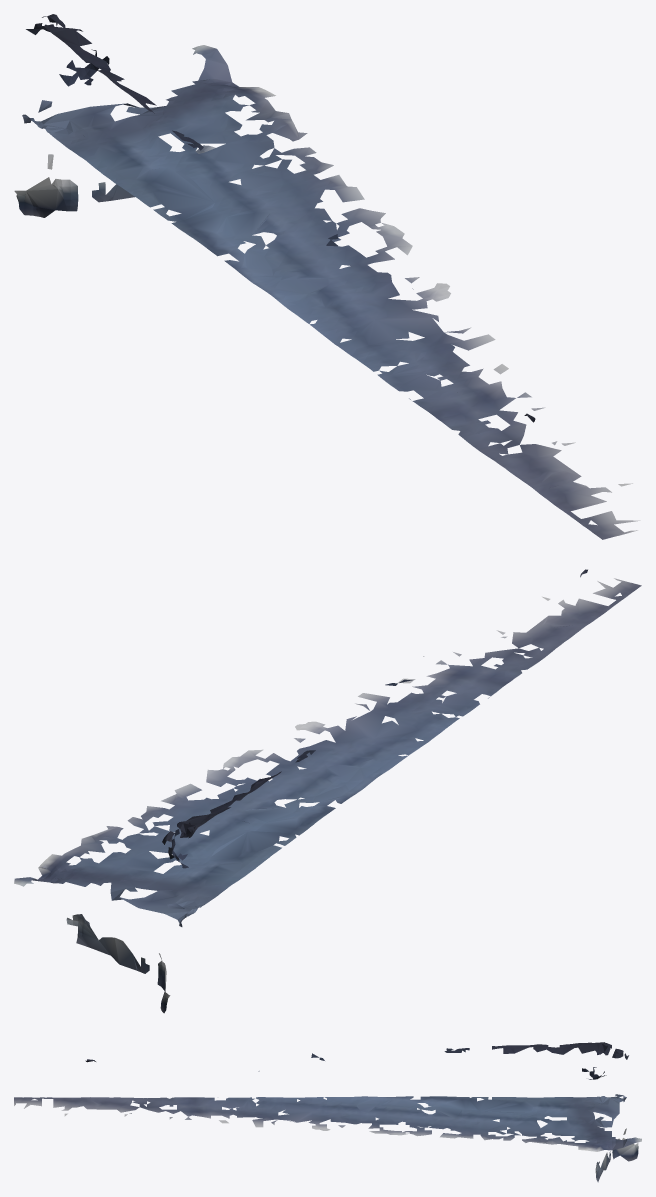
The model's file is coarse.glb.
3 views of the same model, one above another, from view 1: azimuth 30°, elevation 25°; view 2: azimuth 150°, elevation 25°; view 3: azimuth 270°, elevation 25° (orthographic). The views are drawn at different scales.
Bounding box in the file's own units: 0.5971 × 0.5963 × 2.95.
